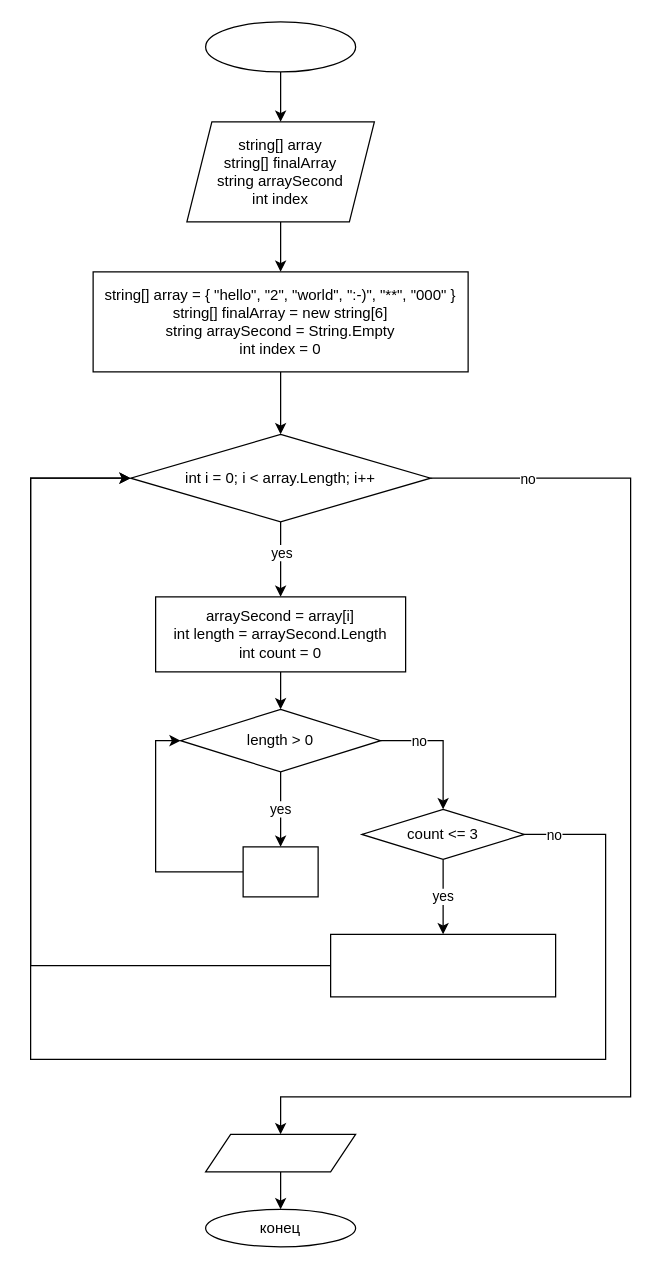
Image size: 663x1269. Some labels were removed from this diagram. The centre of each missing label's shape, as x and y in pixels:
count++ length--: (x=280, y=871)
finalArray[index] = arraySecond index++: (x=442, y=965)
print finalArray: (x=280, y=1152)
начало: (x=280, y=46)
